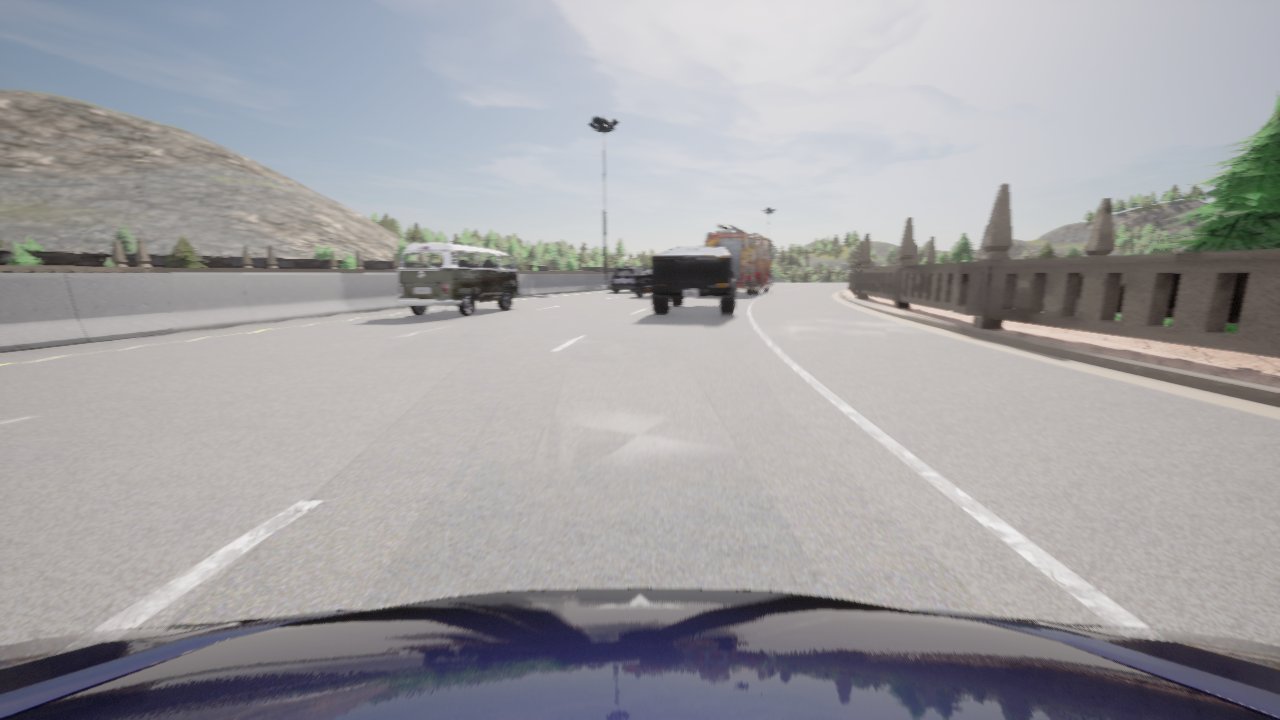cyclist: (0, 588, 1279, 719), (397, 242, 518, 316), (652, 246, 737, 314), (705, 223, 777, 294), (611, 267, 645, 292), (635, 269, 653, 296)
